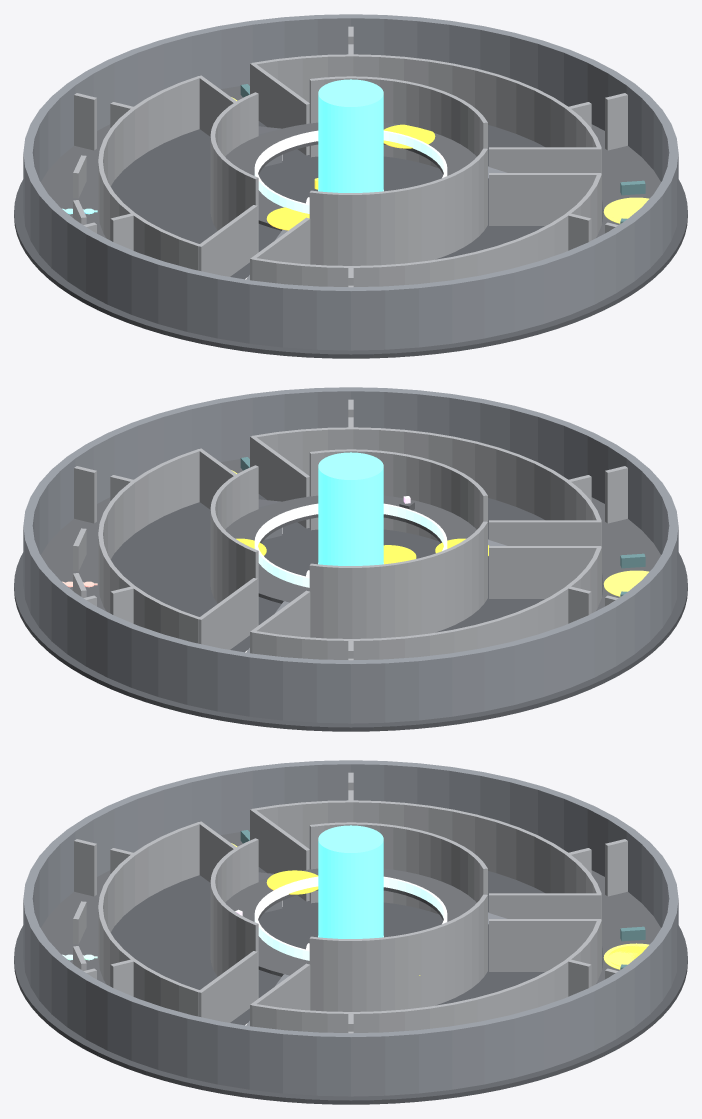
Rendered from high_port_ring.glb.
3 renders of one model, top to bottom at view 1: azimuth 30°, elevation 25°; view 2: azimuth 150°, elevation 25°; view 3: azimuth 270°, elevation 25°, orthographic.
Parts seen in each view (by area): view 1: hull, deck, atrium_wall.1, ring_inner_wall.2, ring_inner_wall.1, ring_inner_wall.0, reactor_core, atrium_wall.2, ring_floor_band, atrium_wall.0, spoke_C_wall-1, balcony (+13 smaller); view 2: hull, deck, atrium_wall.0, ring_inner_wall.1, ring_inner_wall.0, ring_inner_wall.2, reactor_core, atrium_wall.1, ring_floor_band, atrium_wall.2, spoke_B_wall-1, balcony (+11 smaller); view 3: hull, deck, atrium_wall.2, ring_inner_wall.0, ring_inner_wall.2, ring_inner_wall.1, reactor_core, atrium_wall.0, ring_floor_band, atrium_wall.1, spoke_A_wall-1, balcony (+12 smaller).
Boxes of the visible parts, x1,y1,x2,y2 form: hull: [23, 14, 678, 350]; deck: [14, 121, 687, 358]; atrium_wall.1: [309, 148, 487, 265]; ring_inner_wall.2: [252, 54, 601, 174]; ring_inner_wall.1: [252, 174, 601, 286]; ring_inner_wall.0: [98, 76, 200, 270]; reactor_core: [318, 79, 383, 192]; atrium_wall.2: [309, 76, 487, 168]; ring_floor_band: [41, 84, 660, 238]; atrium_wall.0: [210, 92, 258, 252]; spoke_C_wall-1: [489, 173, 601, 225]; balcony: [225, 122, 476, 230]; hull: [23, 387, 678, 723]; deck: [14, 494, 687, 731]; atrium_wall.0: [309, 521, 487, 638]; ring_inner_wall.1: [252, 427, 601, 547]; ring_inner_wall.0: [252, 547, 601, 659]; ring_inner_wall.2: [98, 449, 200, 643]; reactor_core: [318, 452, 383, 565]; atrium_wall.1: [309, 449, 487, 541]; ring_floor_band: [41, 457, 660, 611]; atrium_wall.2: [210, 465, 258, 625]; spoke_B_wall-1: [489, 546, 601, 598]; balcony: [225, 495, 476, 603]; hull: [23, 760, 678, 1096]; deck: [14, 867, 687, 1104]; atrium_wall.2: [309, 894, 487, 1011]; ring_inner_wall.0: [252, 800, 601, 920]; ring_inner_wall.2: [252, 920, 601, 1032]; ring_inner_wall.1: [98, 822, 201, 1016]; reactor_core: [318, 825, 383, 938]; atrium_wall.0: [309, 822, 487, 914]; ring_floor_band: [41, 830, 660, 984]; atrium_wall.1: [210, 838, 258, 998]; spoke_A_wall-1: [489, 919, 601, 971]; balcony: [225, 868, 476, 976].
Size of the model in its own units: 72 by 14.5 by 72.
